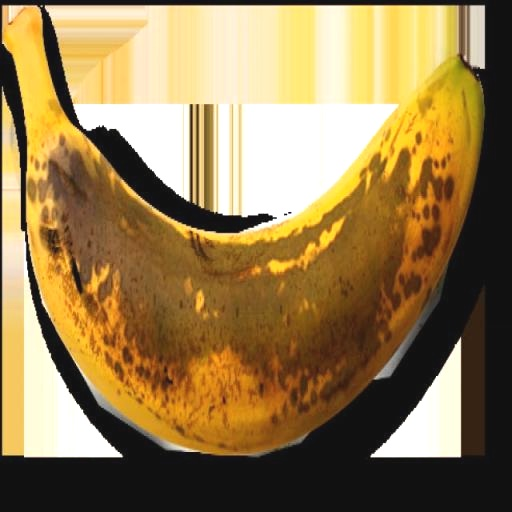fruit: (4, 8, 483, 452)
